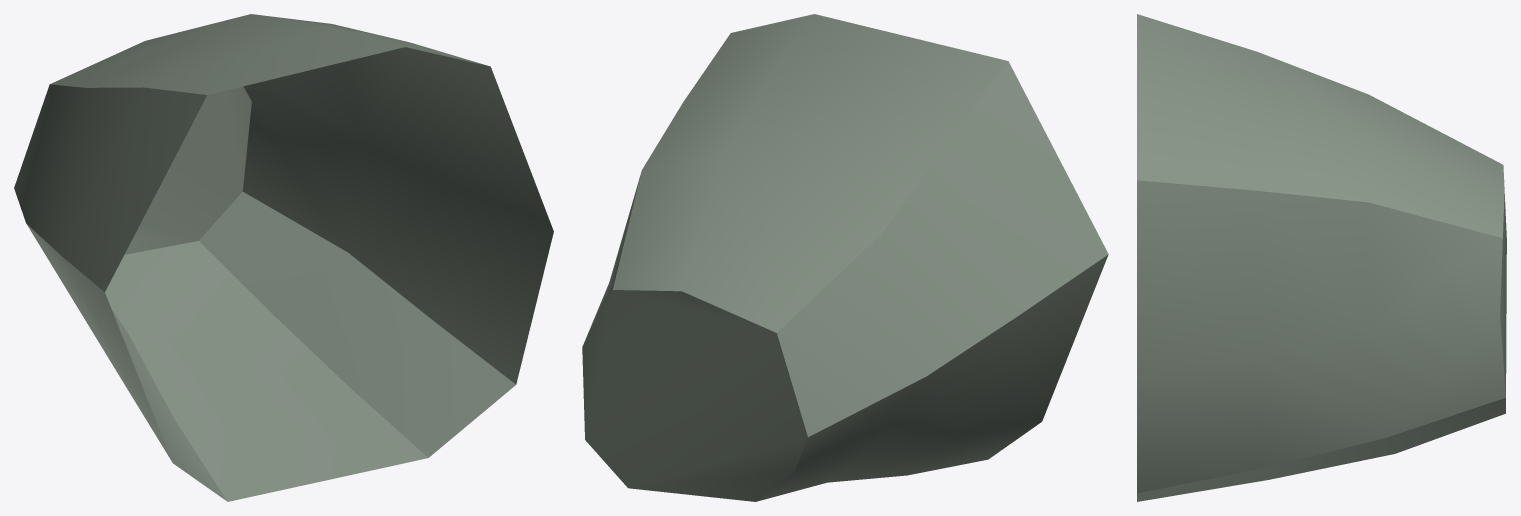
Rendered from Rock1.fbx.
3 renders of one model, left to right at view 1: azimuth 30°, elevation 25°; view 2: azimuth 150°, elevation 25°; view 3: azimuth 270°, elevation 25°, orthographic. The views are drawn at different scales.
Parts seen in each view (by area): view 1: Rock1; view 2: Rock1; view 3: Rock1.
Part boxes in pixels (x1,y1,x2,y2): Rock1: [14, 14, 553, 501]; Rock1: [582, 14, 1108, 501]; Rock1: [1137, 14, 1506, 501].
Bounding box in the file's own units: 1021 × 906 × 784.
